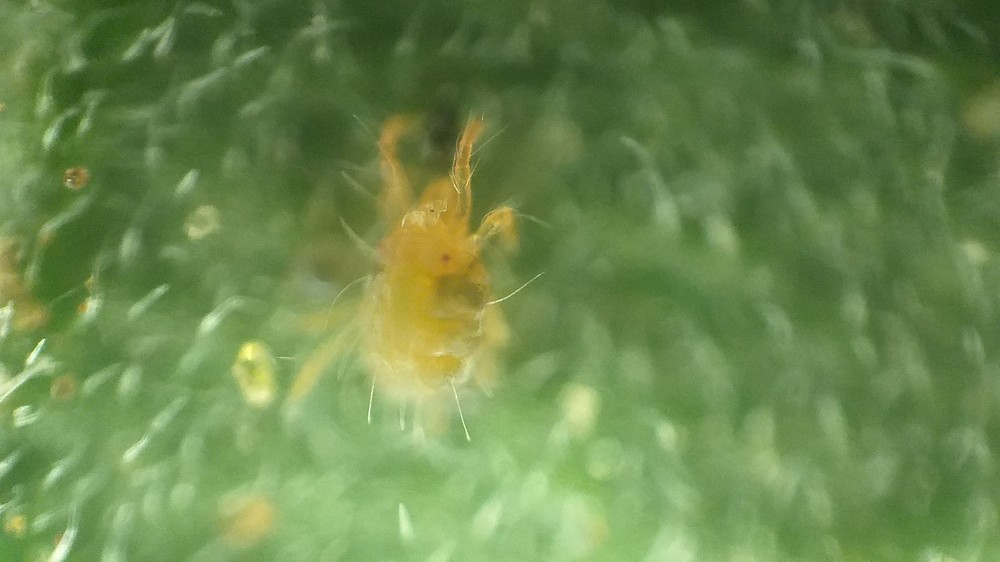Aracnido Rojo: (294, 98, 573, 456)
